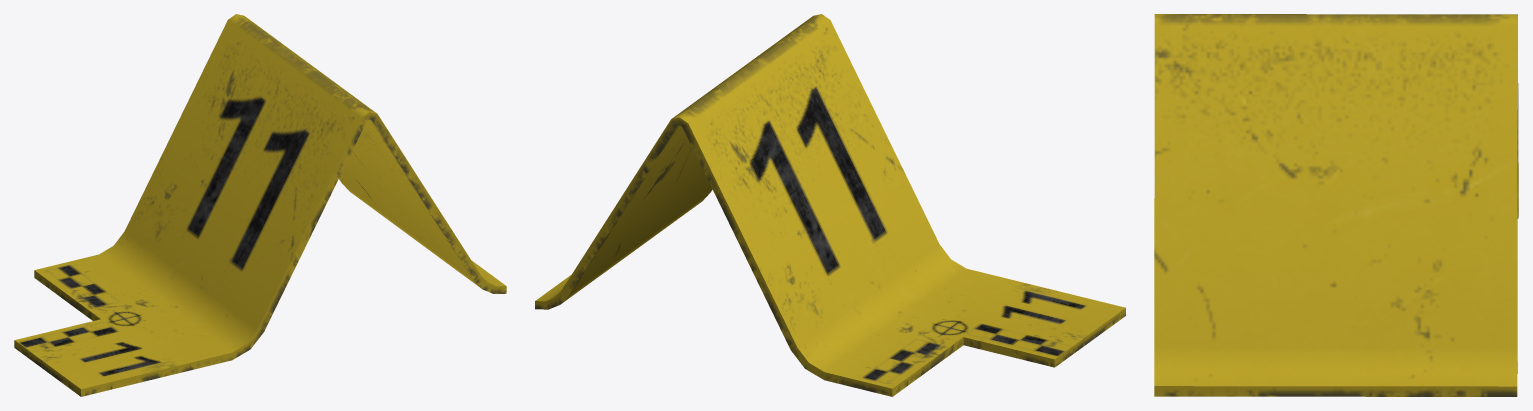
The model's file is Prop_Crime_Number.fbx.
The picture shows the model from 3 angles, left to right: view 1: azimuth 30°, elevation 25°; view 2: azimuth 150°, elevation 25°; view 3: azimuth 270°, elevation 25°; orthographic projection. The views are drawn at different scales.
Visible parts, largest first — view 1: Prop_Crime_Number; view 2: Prop_Crime_Number; view 3: Prop_Crime_Number.
Boxes of the visible parts, x1=… form: Prop_Crime_Number: x1=14, y1=14, x2=506, y2=396; Prop_Crime_Number: x1=535, y1=14, x2=1125, y2=396; Prop_Crime_Number: x1=1154, y1=14, x2=1518, y2=396.
Size of the model in its own units: 12.62 by 6.09 by 6.9.
